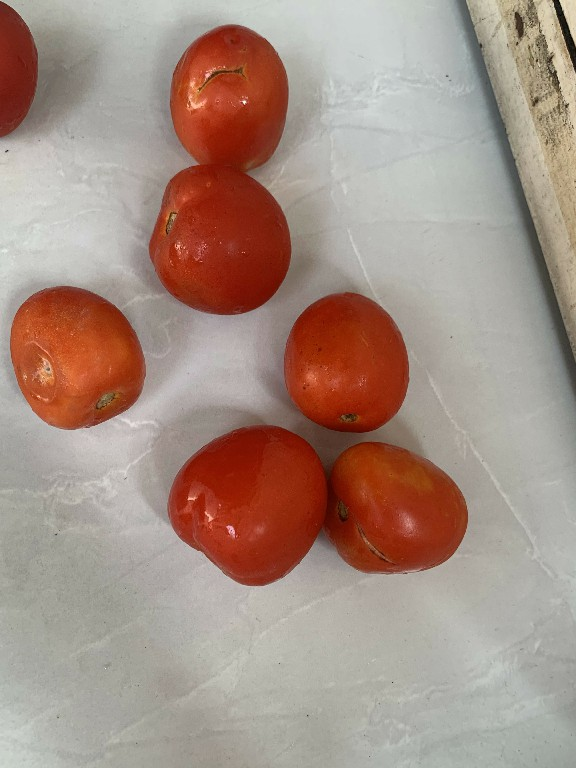NG: (328, 418, 470, 583), (5, 273, 148, 434), (173, 26, 296, 177)
OK: (154, 424, 333, 598), (145, 157, 294, 321), (277, 283, 406, 439)
